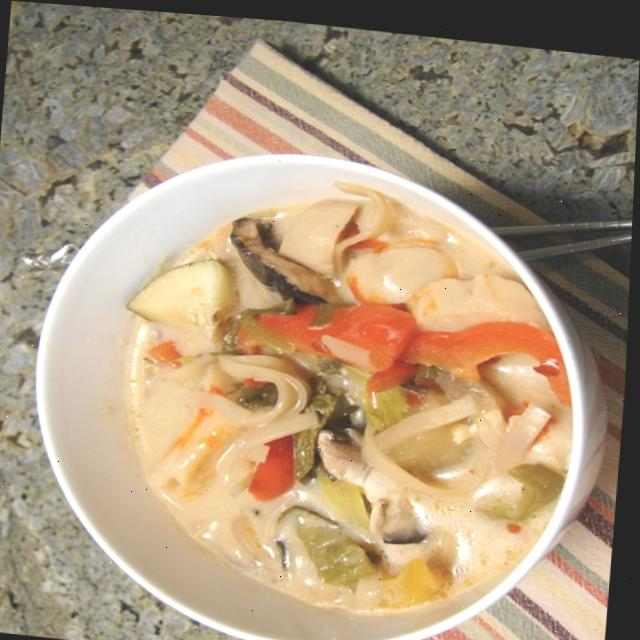汤锅炖物: (21, 94, 609, 640)
